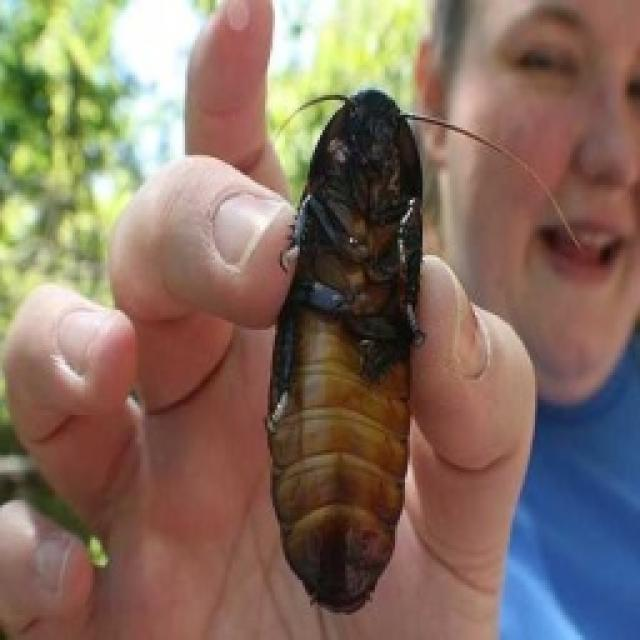cockroach: (254, 67, 457, 627)
